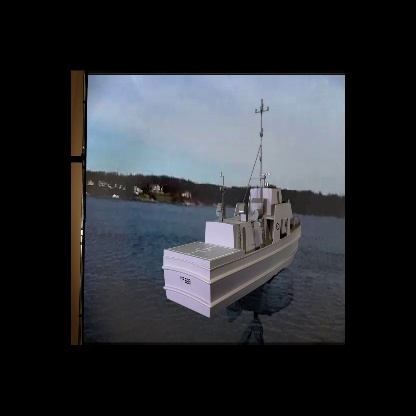YP689: (158, 100, 311, 317)
